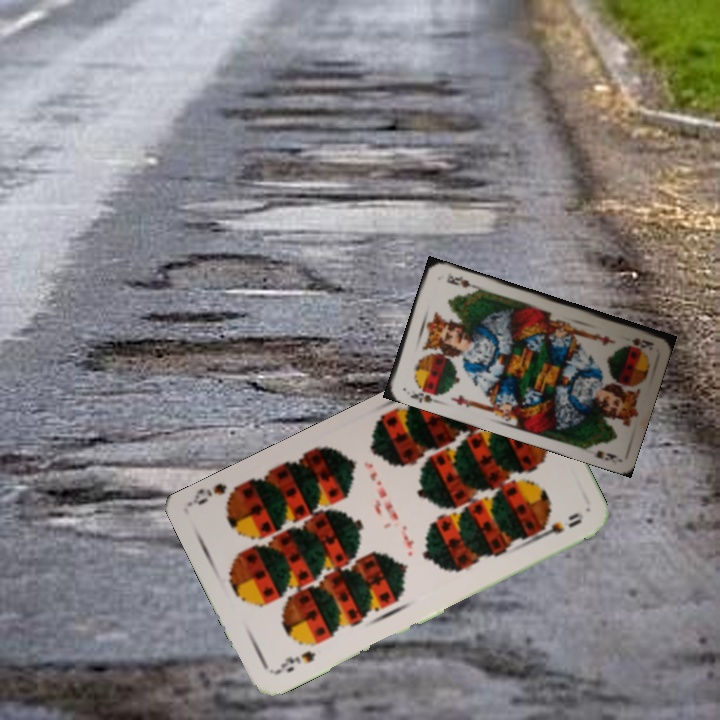S9: (271, 646, 318, 677)
SK: (406, 383, 442, 405), (628, 334, 656, 353)
